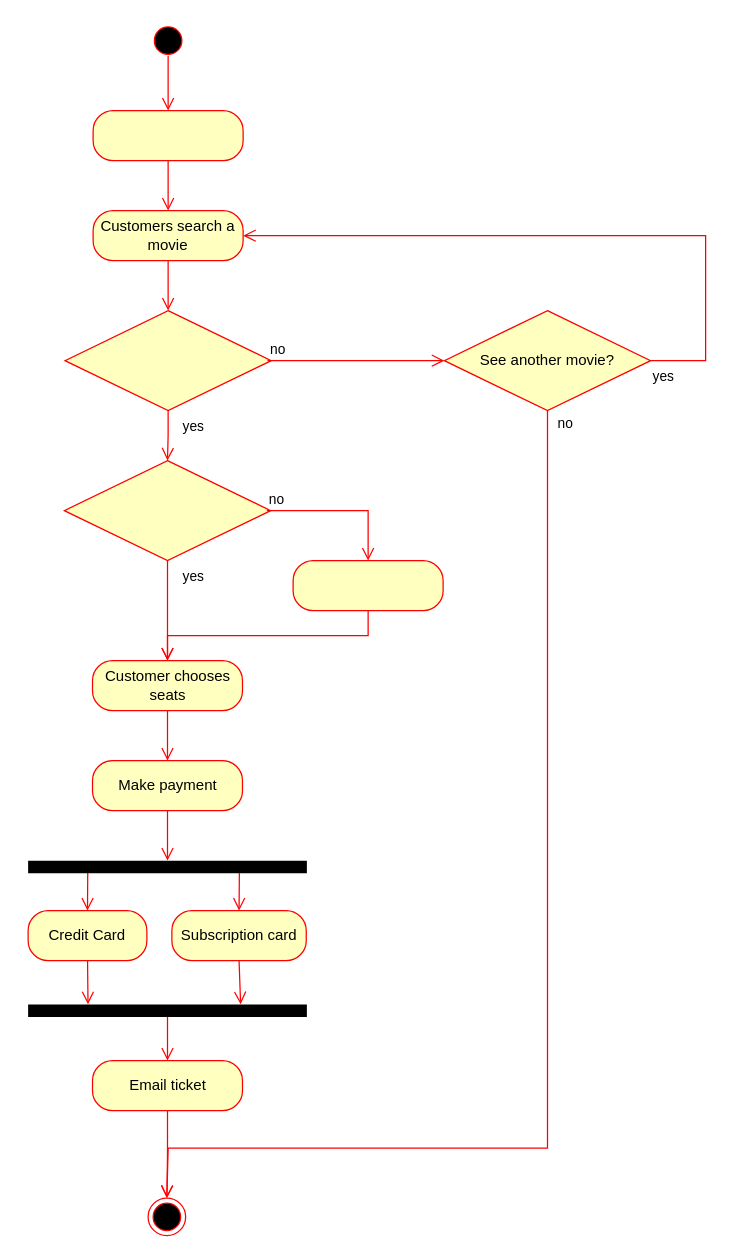
The diagram is 740 pixels wide and 1258 high, and some of its shapes have lost their labels. The centre of each missing label's shape, as x and y in pixels:
"Customer already registered?" belongs at (167,510).
"Customers open the site online" belongs at (167,135).
"Movie available? (time, seats,...)" belongs at (167,360).
"Register new customer" belongs at (367,585).
